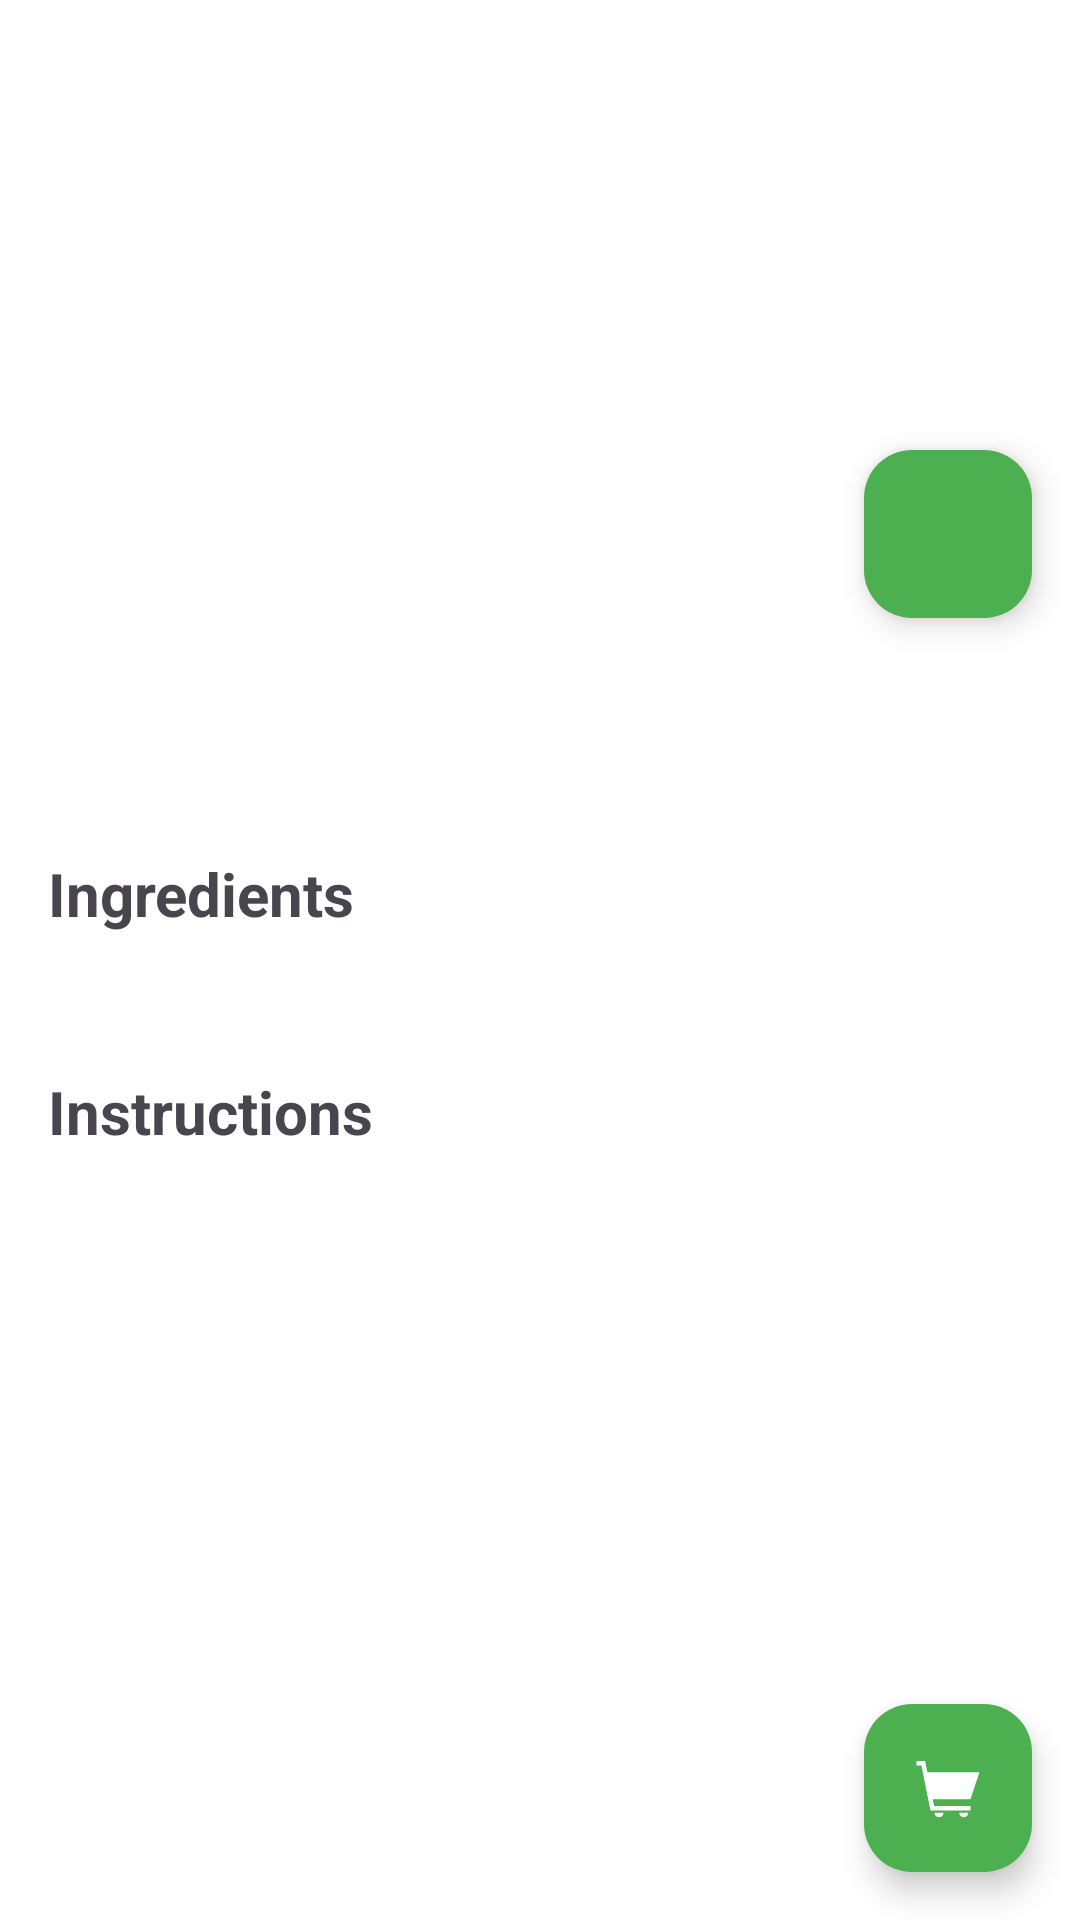

Named icons in this screenshot (1080px x 1920px) and their bounding boxes, (x1, y1, x2, y2):
Añadir ingredientes a la lista de la compra: (864, 1704, 1032, 1872)
